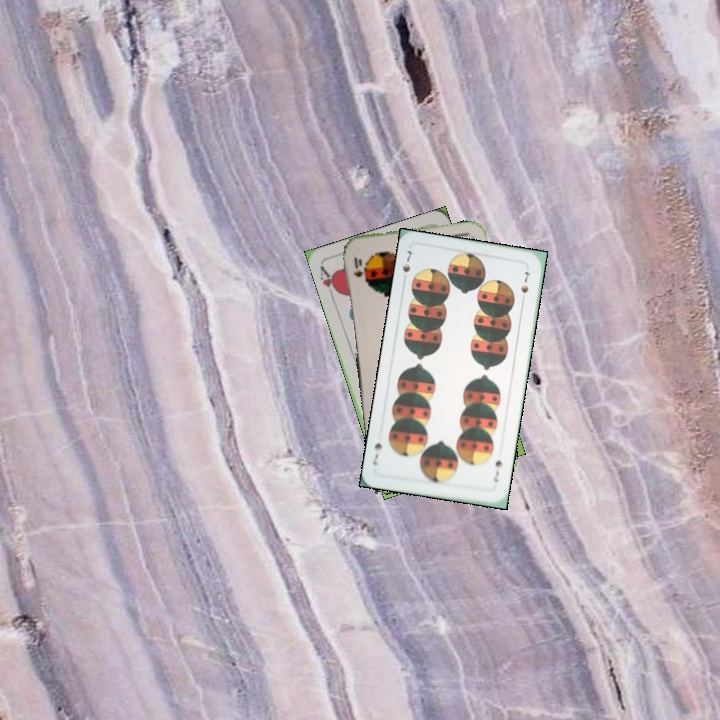HA: (315, 261, 342, 301)
S7: (398, 246, 416, 285), (490, 456, 505, 484)
SO: (350, 253, 368, 285)
